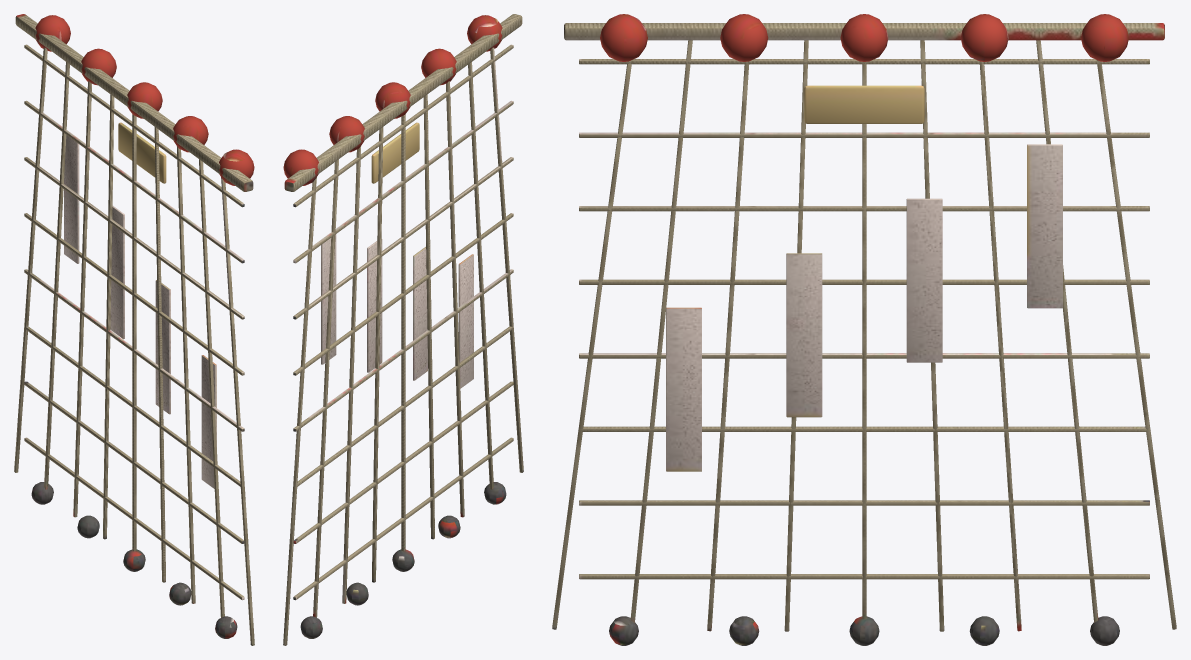
Rendered from door_net.glb.
3 renders of one model, left to right at view 1: azimuth 30°, elevation 25°; view 2: azimuth 150°, elevation 25°; view 3: azimuth 270°, elevation 25°, orthographic. The views are drawn at different scales.
Visible parts, largest first — view 1: top_rope, strand0, strand2, strand1, strand3, strand4, strand5, strand6, strand8, strand7, weed3, weed2 (+21 smaller); view 2: top_rope, strand8, strand6, strand7, strand5, strand4, strand3, strand2, strand0, strand1, weed0, weed1 (+21 smaller); view 3: top_rope, weed1, weed2, weed0, weed3, plate, cross1, cross0, cross6, cross7, cross2, strand0 (+16 smaller).
Part boxes in pixels (x1,y1,x2,y2): top_rope: (15,14,253,191); strand0: (221,177,254,645); strand2: (177,146,195,603); strand1: (199,159,224,617); strand3: (154,127,165,582); strand4: (132,114,136,551); strand5: (103,94,114,539); strand6: (73,81,91,517); strand8: (14,47,47,472); strand7: (44,62,69,489); weed3: (64,135,79,263); weed2: (110,206,124,339); top_rope: (284,14,522,191); strand8: (283,177,316,645); strand6: (342,146,360,603); strand7: (313,159,338,617); strand5: (372,127,383,582); strand4: (401,114,405,551); strand3: (423,94,434,539); strand2: (446,81,464,517); strand0: (490,47,523,472); strand1: (468,62,493,489); weed0: (458,254,473,388); weed1: (413,247,427,380); top_rope: (564,23,1164,40); weed1: (786,253,822,417); weed2: (906,198,942,362); weed0: (666,307,701,471); weed3: (1027,144,1062,308); plate: (804,85,924,123); cross1: (579,500,1149,505); cross0: (579,574,1149,579); cross6: (579,132,1149,137); cross7: (579,59,1149,64); cross2: (579,426,1149,431); strand0: (552,60,632,629).
Size of the model in its own units: 0.1776 by 2.33 by 2.08.
Materials: 1 (1 with a texture image).
